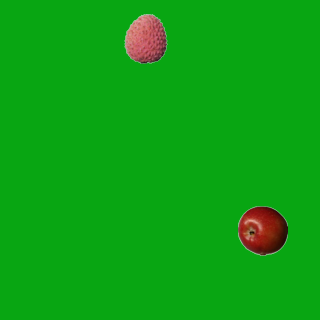Apple Braeburn: (237, 205, 287, 255)
Lychee: (120, 13, 170, 63)
